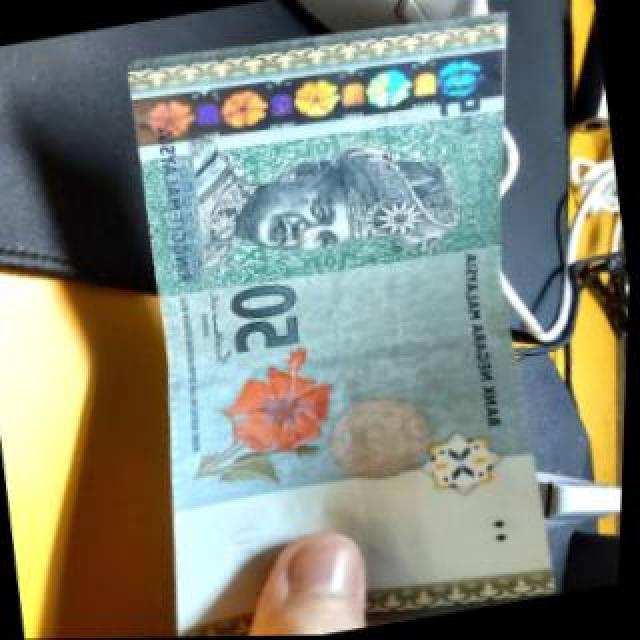50 Ringgit: (94, 0, 607, 639)
